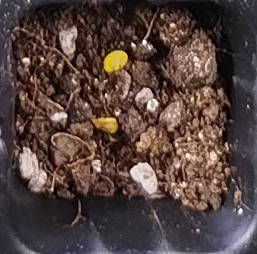chilli seed: (103, 50, 127, 71), (92, 117, 118, 133)
